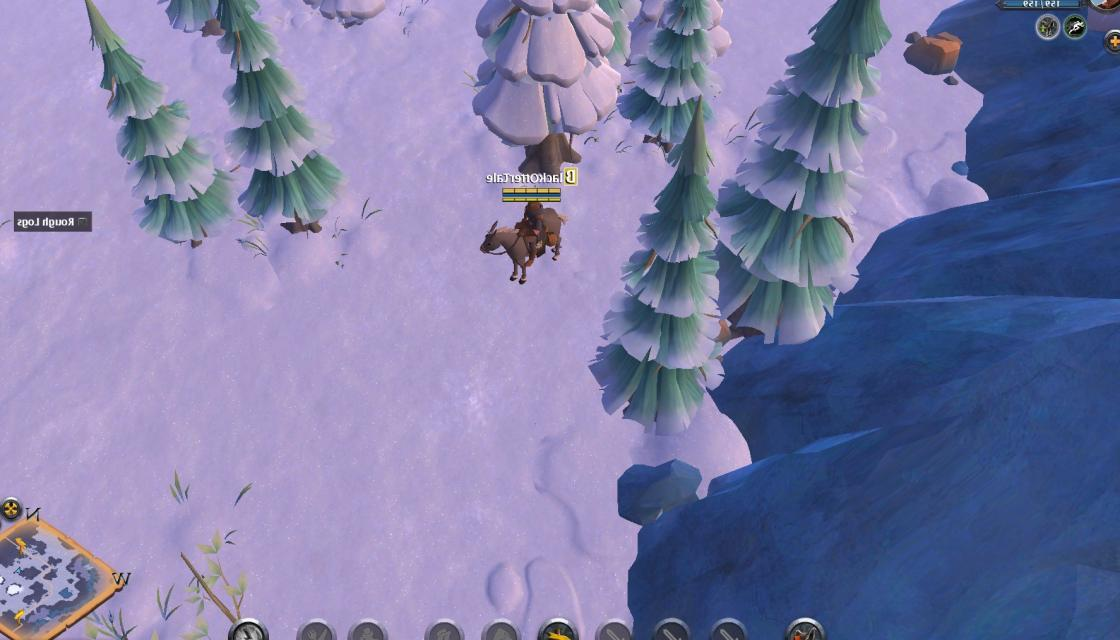limestone: (900, 19, 970, 74)
